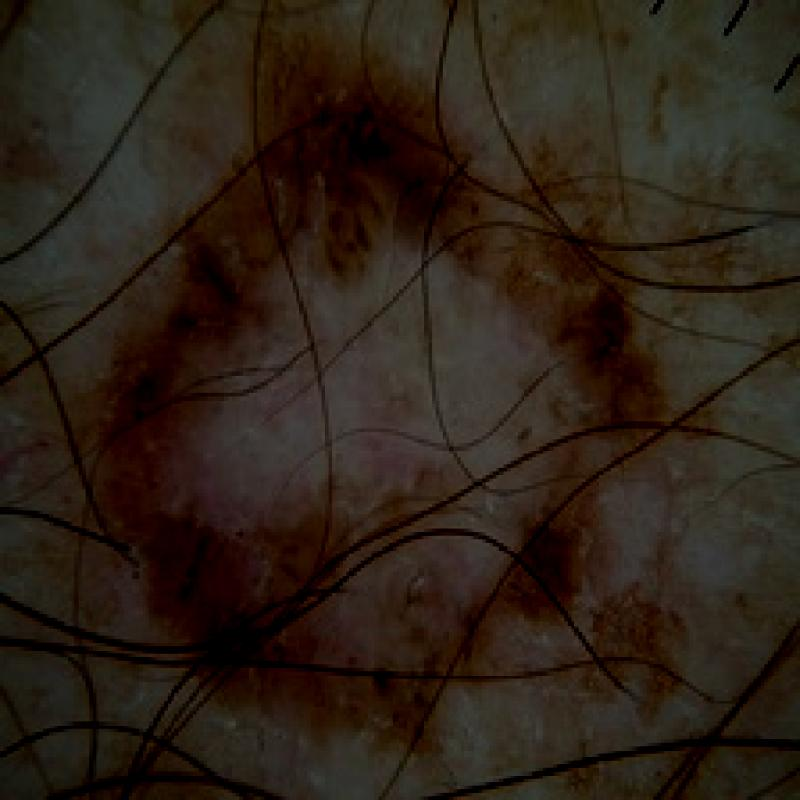malignant: (101, 70, 655, 725)
